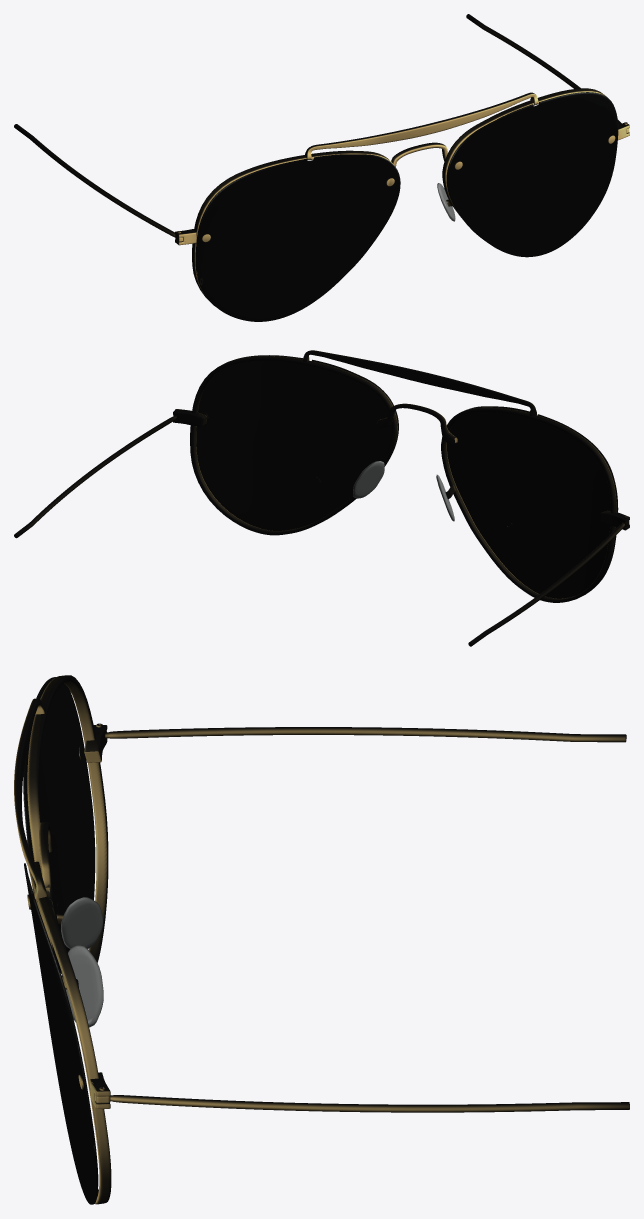
File: teste_1 _aviador.glb
3 views of the same model, one above another, from view 1: azimuth 30°, elevation 25°; view 2: azimuth 150°, elevation 25°; view 3: azimuth 270°, elevation 25° (orthographic). The views are drawn at different scales.
Parts seen in each view (by area): view 1: Cylinder002; view 2: Cylinder002; view 3: Cylinder002.
Part boxes in pixels (box(x1,y1,x2,y2)): Cylinder002: box(14, 14, 629, 321); Cylinder002: box(14, 350, 629, 646); Cylinder002: box(14, 675, 629, 1204).
Size of the model in its own units: 0.2676 by 0.0977 by 0.1843.
1 material, 1 textured.
